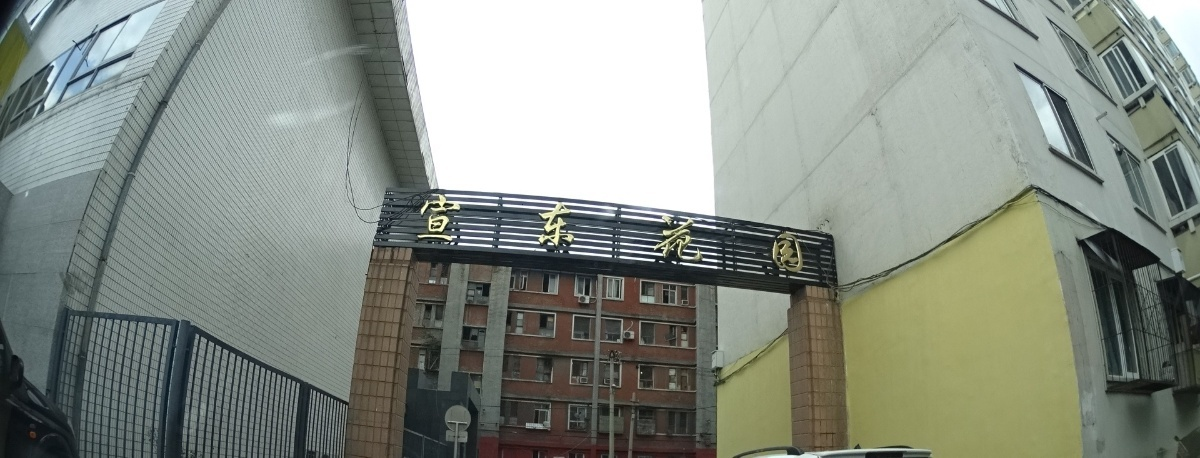text: (417, 187, 432, 280), (433, 187, 448, 280), (449, 187, 464, 280), (465, 187, 480, 280), (481, 187, 496, 280), (497, 187, 512, 280), (513, 187, 528, 280), (529, 187, 544, 280), (545, 187, 560, 280), (561, 187, 576, 280), (577, 187, 592, 280), (593, 187, 608, 280), (609, 187, 624, 280), (625, 187, 640, 280), (641, 187, 656, 280), (657, 187, 672, 280), (673, 187, 688, 280), (689, 187, 704, 280), (705, 187, 720, 280), (721, 187, 736, 280), (737, 187, 752, 280), (753, 187, 768, 280), (769, 187, 784, 280), (785, 187, 800, 280), (801, 187, 811, 280), (414, 187, 416, 280)
